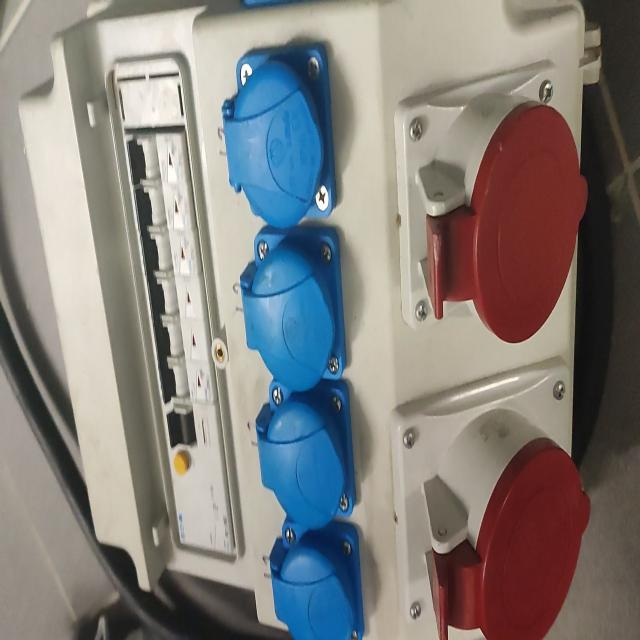400v socket: (390, 354, 590, 640), (394, 59, 588, 345)
house plug covered: (222, 50, 338, 229), (239, 225, 350, 394), (254, 383, 357, 527), (268, 517, 366, 640)
